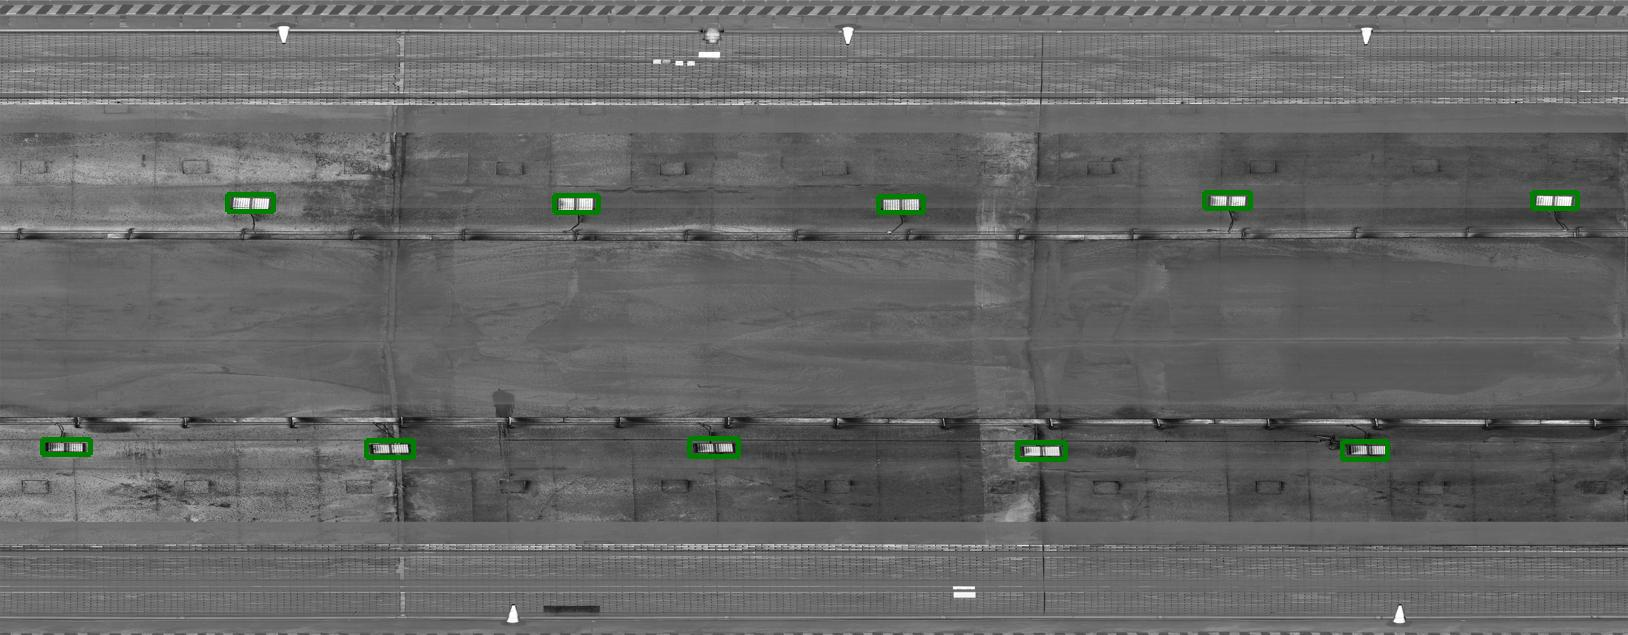light: (1017, 437, 1067, 461), (875, 191, 924, 215), (1200, 188, 1249, 212), (1528, 189, 1577, 213), (1342, 438, 1391, 462), (38, 436, 86, 457), (226, 192, 274, 213), (367, 437, 414, 458), (551, 193, 599, 214), (689, 435, 737, 455)
